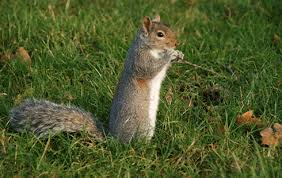squirrel: (10, 16, 185, 142)
